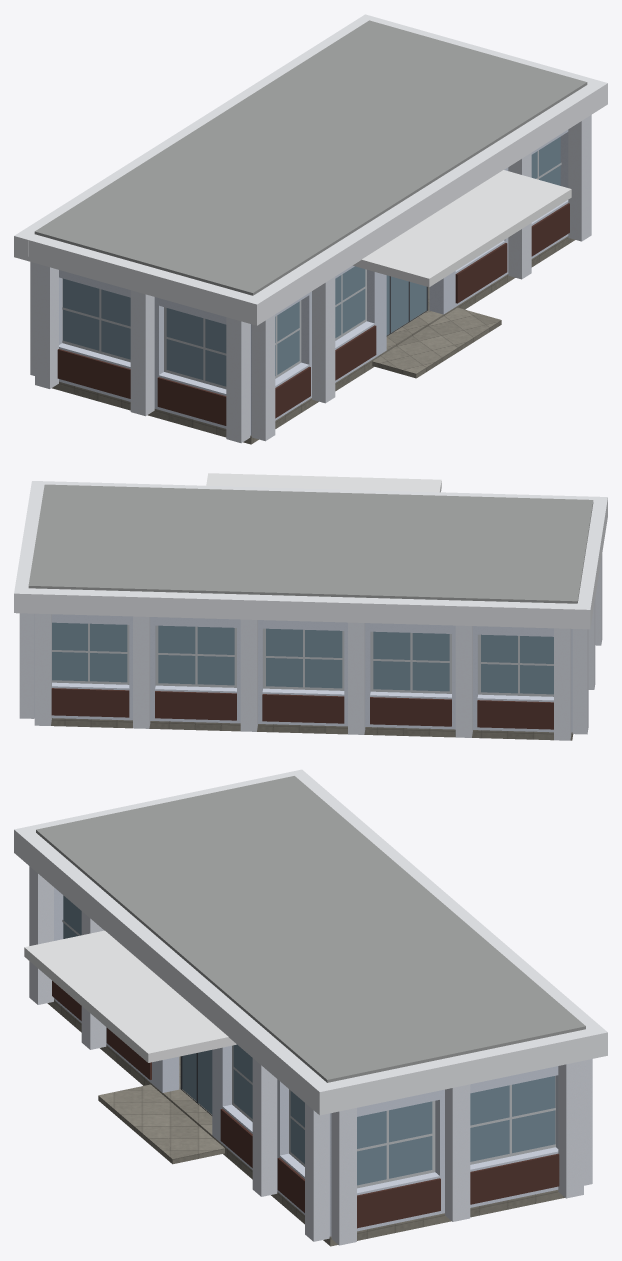
The picture shows the model from 3 angles, top to bottom: view 1: azimuth 30°, elevation 25°; view 2: azimuth 150°, elevation 25°; view 3: azimuth 270°, elevation 25°; orthographic projection. The views are drawn at different scales.
Visible parts, largest first — view 1: pavilion-store__greyroof, pavilion-store__fascia, pavilion-store__pier, pavilion-store__glass, pavilion-store__canopy, pavilion-store__spandrel, pavilion-store__white, pavilion-store__threshold-store-door, pavilion-store__stone, pavilion-store__frame; view 2: pavilion-store__greyroof, pavilion-store__glass, pavilion-store__fascia, pavilion-store__pier, pavilion-store__white, pavilion-store__spandrel, pavilion-store__frame, pavilion-store__stone, pavilion-store__canopy; view 3: pavilion-store__greyroof, pavilion-store__fascia, pavilion-store__pier, pavilion-store__glass, pavilion-store__canopy, pavilion-store__white, pavilion-store__spandrel, pavilion-store__threshold-store-door, pavilion-store__stone, pavilion-store__frame.
Part boxes in pixels (x1,y1,x2,y2): pavilion-store__greyroof: [34, 20, 587, 295]; pavilion-store__fascia: [14, 14, 607, 325]; pavilion-store__pier: [30, 115, 591, 443]; pavilion-store__glass: [63, 137, 560, 386]; pavilion-store__canopy: [353, 170, 571, 287]; pavilion-store__spandrel: [57, 203, 569, 425]; pavilion-store__white: [59, 130, 568, 435]; pavilion-store__threshold-store-door: [372, 307, 501, 378]; pavilion-store__stone: [52, 236, 574, 444]; pavilion-store__frame: [62, 150, 561, 389]; pavilion-store__greyroof: [28, 484, 593, 603]; pavilion-store__glass: [52, 622, 553, 694]; pavilion-store__fascia: [14, 481, 607, 629]; pavilion-store__pier: [19, 554, 602, 740]; pavilion-store__white: [34, 614, 572, 732]; pavilion-store__spandrel: [51, 688, 553, 729]; pavilion-store__frame: [52, 623, 553, 696]; pavilion-store__stone: [51, 718, 573, 740]; pavilion-store__canopy: [206, 473, 441, 492]; pavilion-store__greyroof: [36, 776, 585, 1082]; pavilion-store__fascia: [14, 769, 607, 1115]; pavilion-store__pier: [29, 866, 592, 1245]; pavilion-store__glass: [63, 895, 555, 1185]; pavilion-store__canopy: [24, 930, 236, 1062]; pavilion-store__white: [54, 887, 558, 1236]; pavilion-store__spandrel: [52, 981, 559, 1228]; pavilion-store__threshold-store-door: [98, 1084, 224, 1164]; pavilion-store__stone: [47, 1000, 564, 1246]; pavilion-store__frame: [62, 920, 555, 1188].
Bounding box in the file's own units: 16.32 × 4.02 × 12.69.
Materials: 10 (3 with a texture image).
